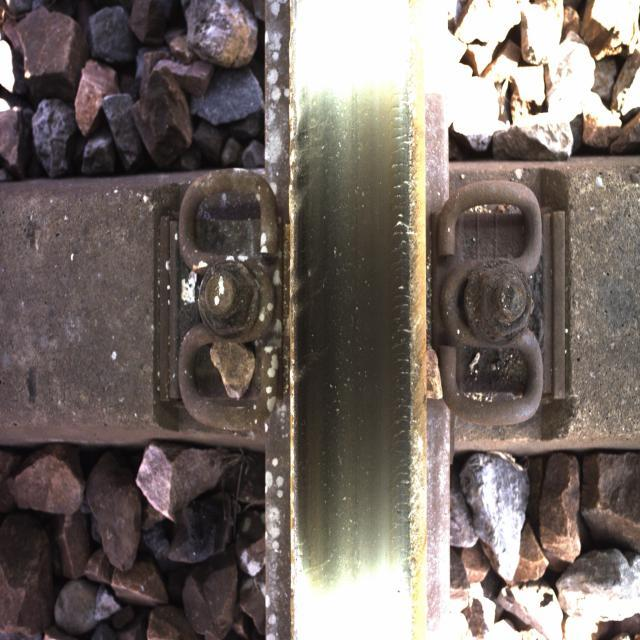normal: (286, 68, 400, 552)
